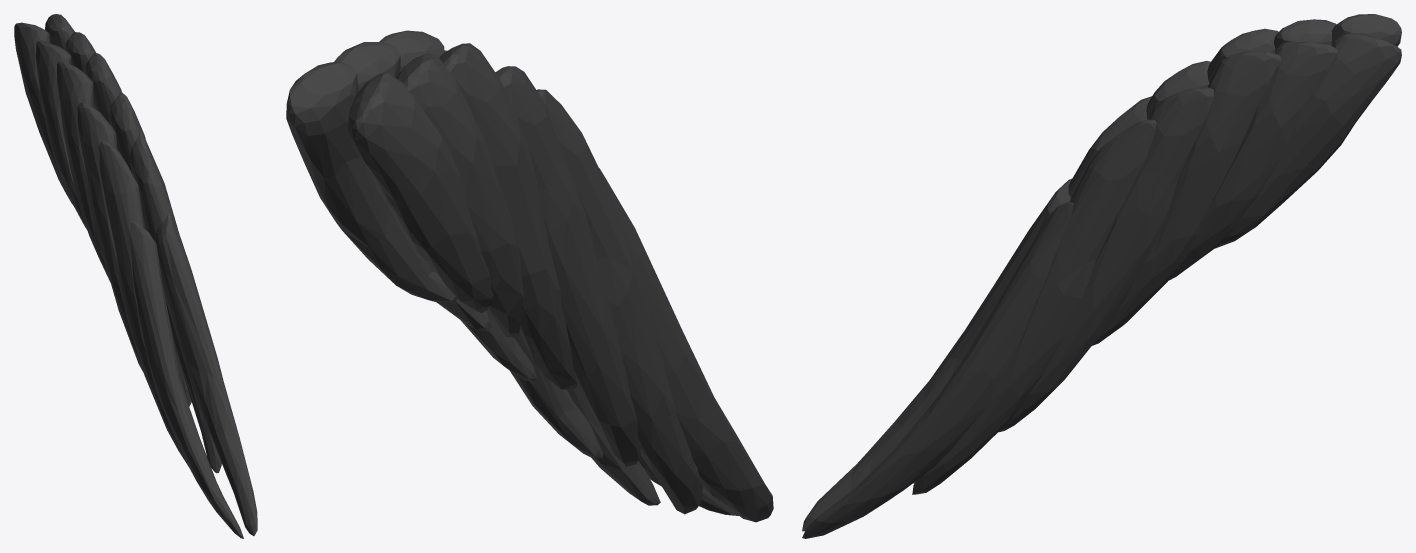
Rendered from m_semispinalis_cervicis.glb.
3 renders of one model, left to right at view 1: azimuth 30°, elevation 25°; view 2: azimuth 150°, elevation 25°; view 3: azimuth 270°, elevation 25°, orthographic. The views are drawn at different scales.
Parts seen in each view (by area): view 1: m_semispinalis_cervicis; view 2: m_semispinalis_cervicis; view 3: m_semispinalis_cervicis.
Part boxes in pixels (bbox=[...]): m_semispinalis_cervicis: bbox=[14, 14, 257, 538]; m_semispinalis_cervicis: bbox=[286, 30, 773, 522]; m_semispinalis_cervicis: bbox=[802, 14, 1401, 538].
Size of the model in its own units: 0.000572 by 0.00324 by 0.00345.
1 material, 1 textured.
